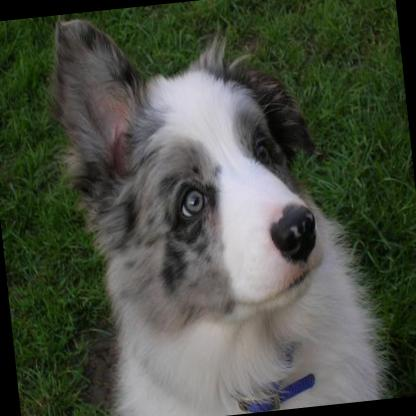Border_collie: (42, 0, 396, 416)
